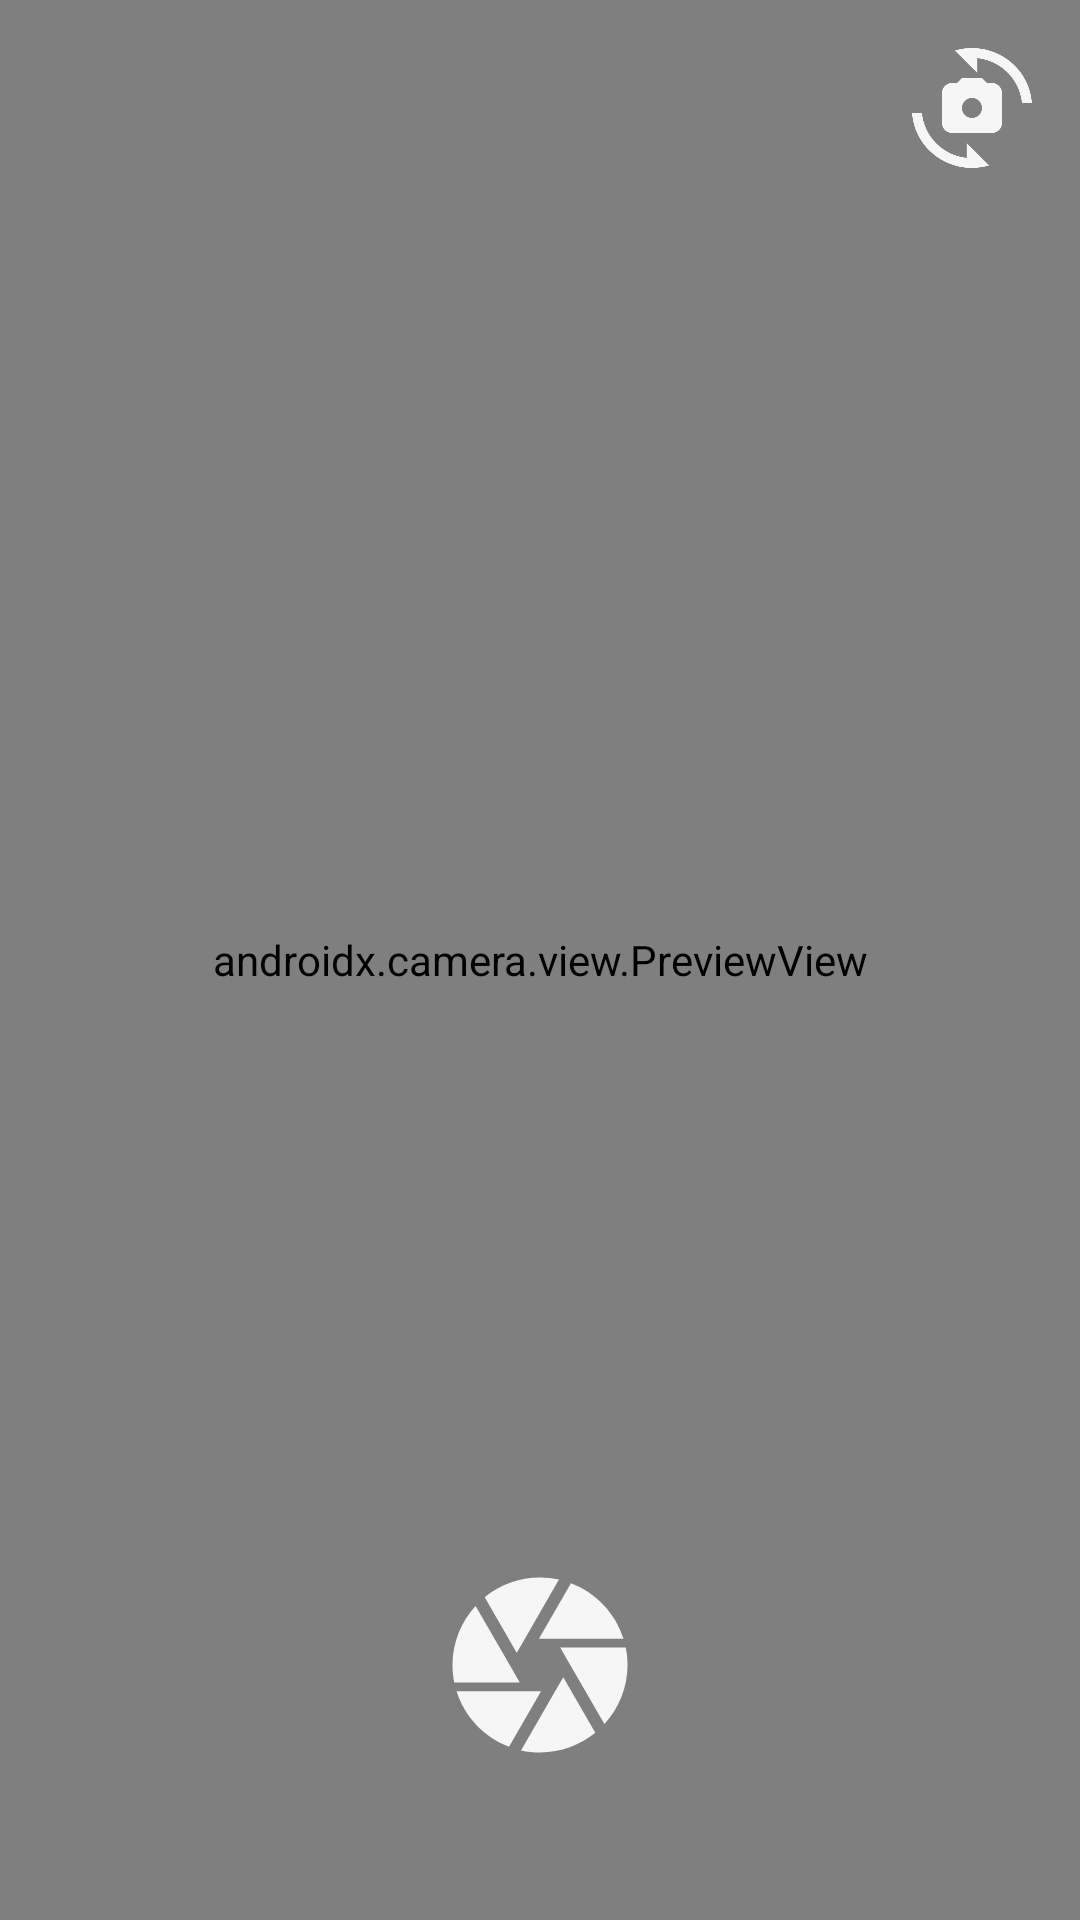

Screen size 1080px×1920px. Icon name, then its center in pixels as [x,y]:
Switch Camera: [972,108]
Take Photo: [540,1665]
